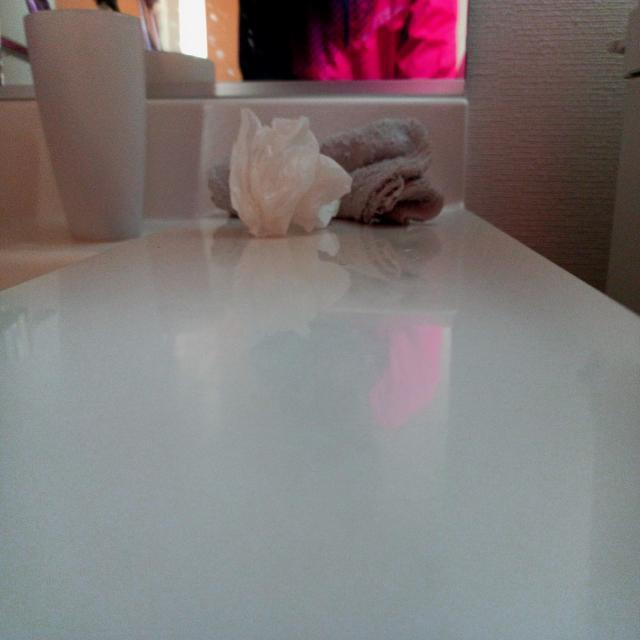Paper: (227, 106, 356, 228)
